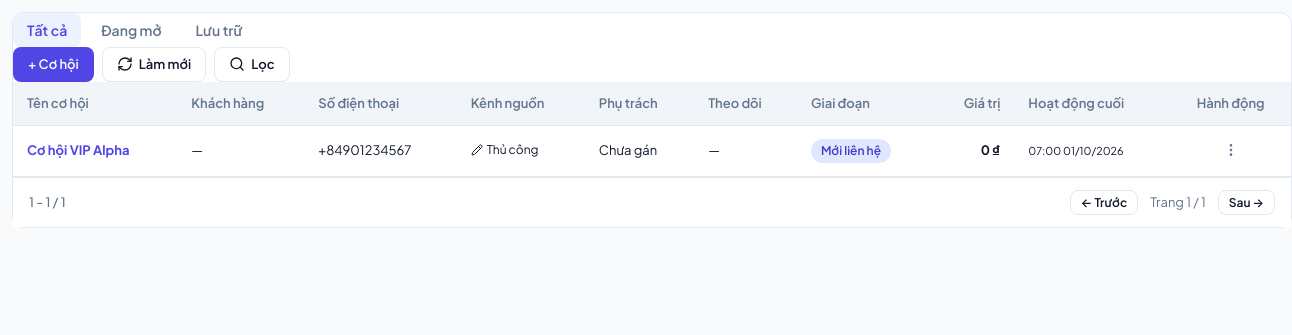
it: Requirement d39fd882, AC 0eeab67e — ActionMenu dùng chung (portal + position:fixed) › AC 0eeab67e (d)(e) — Tính toán vị trí fixed và lật / clamp trong viewport › bảng 1 dòng: menu mở ra ngoài document.body không làm phình kích thước table-wrap
The image size is (1292, 335).
Step 1. Click the button with test id "btn-actions-opp-1" → coordinates (1231, 150), box [1215,138,1247,162]
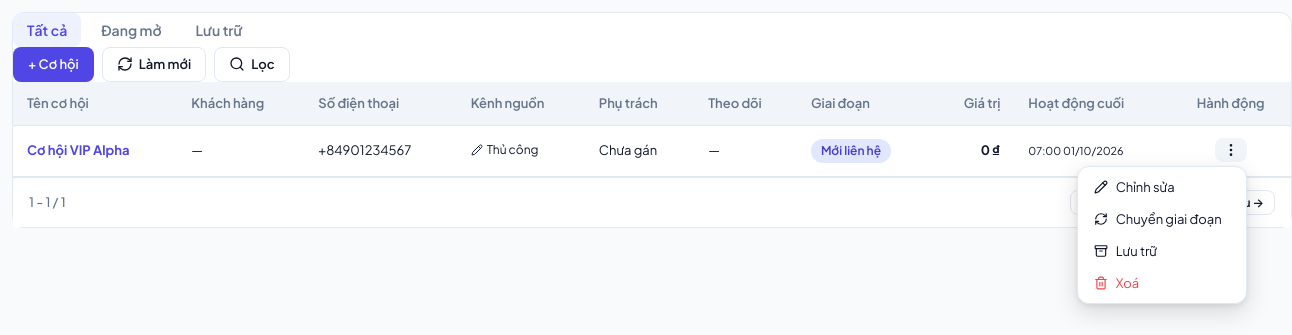
Result: the menu is shown at [1077,166,1247,304]
